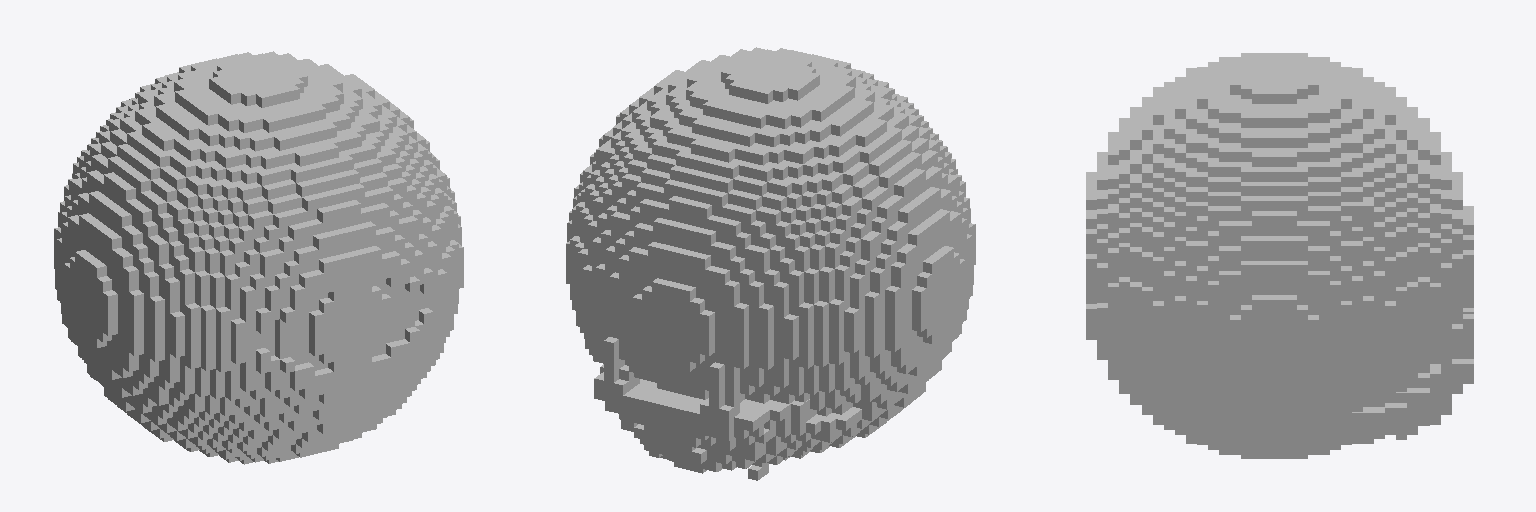
File: newMonster.obj
The picture shows the model from 3 angles: view 1: azimuth 30°, elevation 25°; view 2: azimuth 150°, elevation 25°; view 3: azimuth 270°, elevation 25°; orthographic projection.
Parts seen in each view (by area): view 1: Untitled; view 2: Untitled; view 3: Untitled.
Boxes of the visible parts, x1=… form: Untitled: x1=54, y1=51, x2=463, y2=464; Untitled: x1=566, y1=47, x2=975, y2=480; Untitled: x1=1086, y1=53, x2=1473, y2=458.
Size of the model in its own units: 3.6 by 3.6 by 3.5.